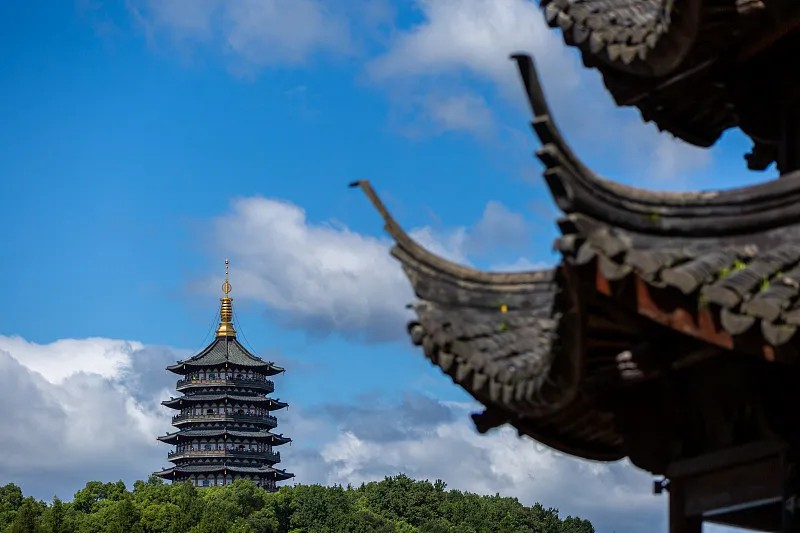Leifeng: (160, 256, 298, 500)
